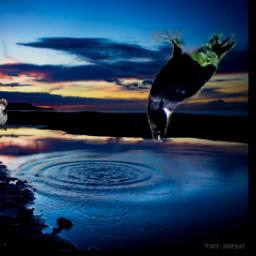Crow: (146, 31, 238, 144)
Sparrow: (0, 99, 8, 131)
